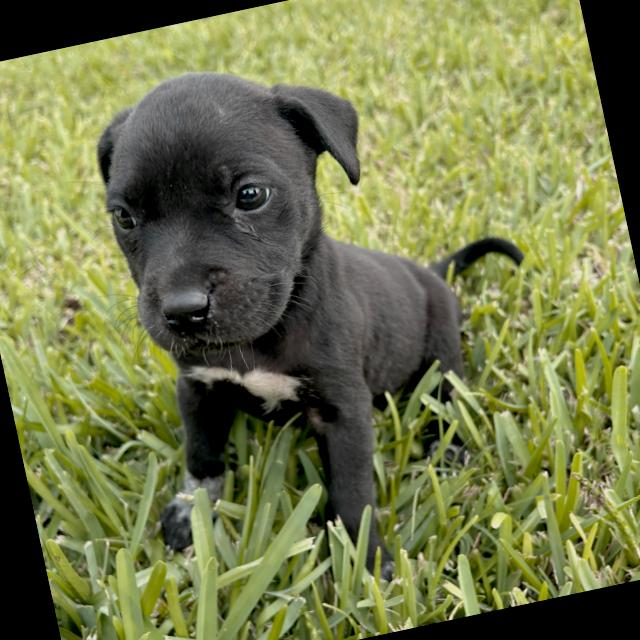labrador_retriever_dog: (55, 31, 409, 396)
